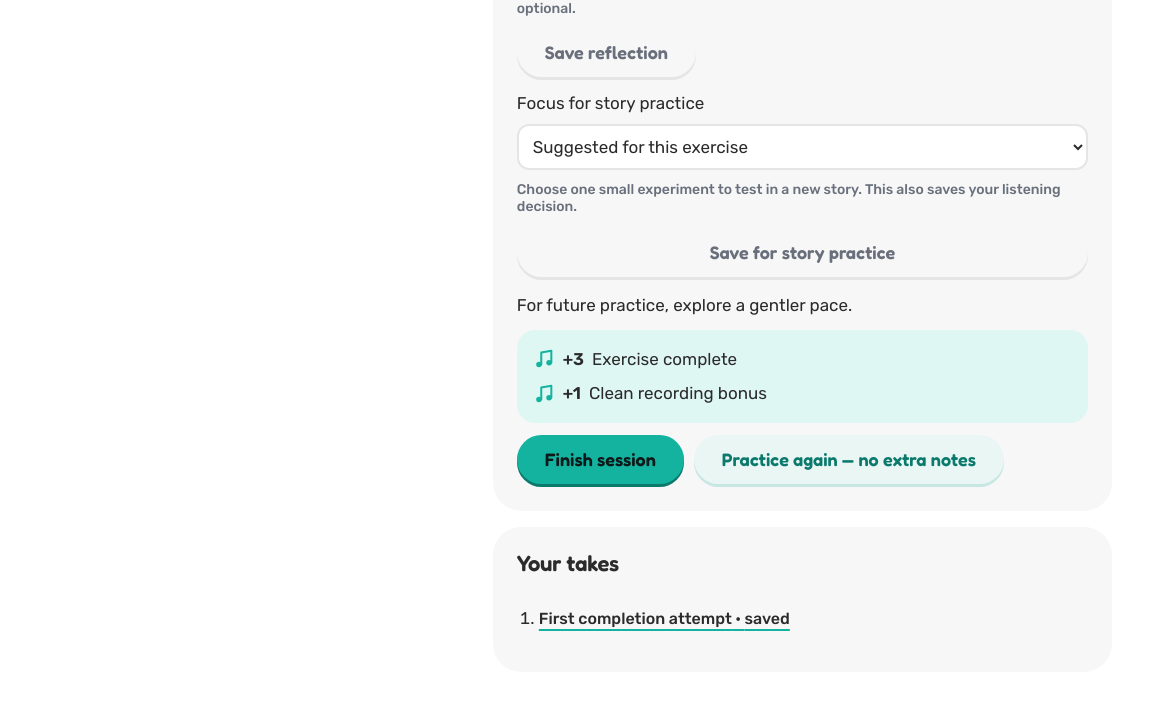
Test: cancelled extra practice keeps the saved feedback without creating an attempt
(page scrolled)
Step 1. Click the button "Practice again — no extra notes" → click(849, 459), box left=694, top=435, right=1004, bottom=484
(page scrolled)
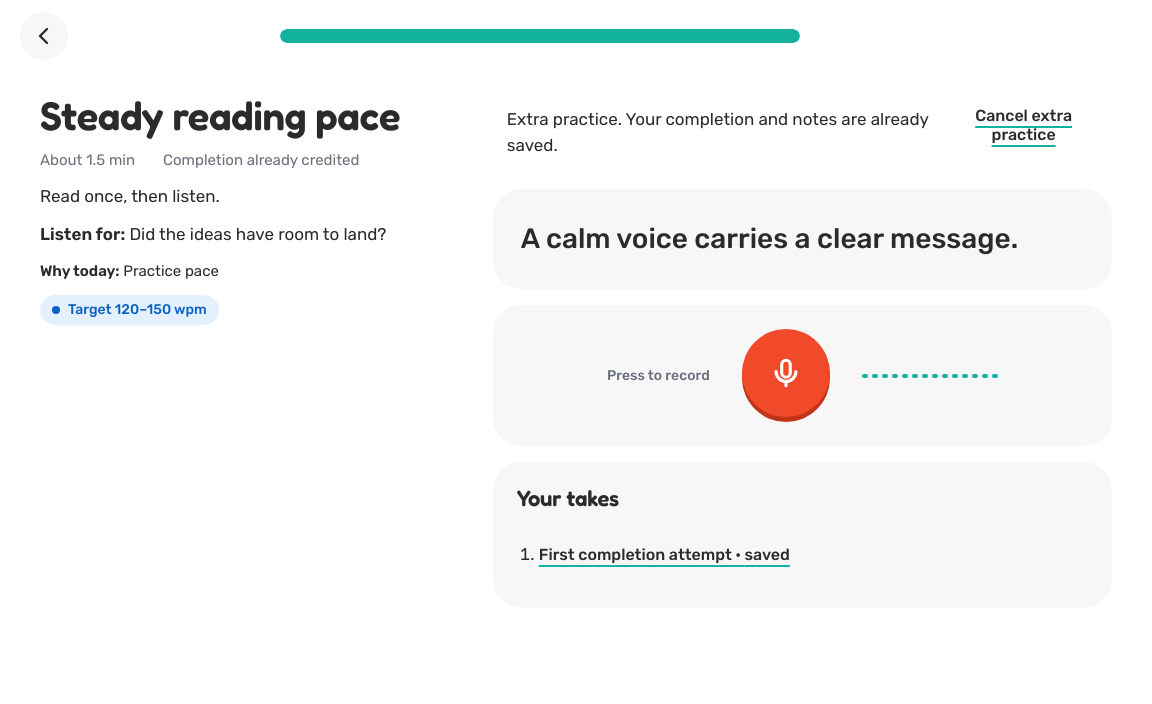
Step 2. Click the button "Cancel extra practice" → click(1024, 125), box left=949, top=106, right=1098, bottom=144
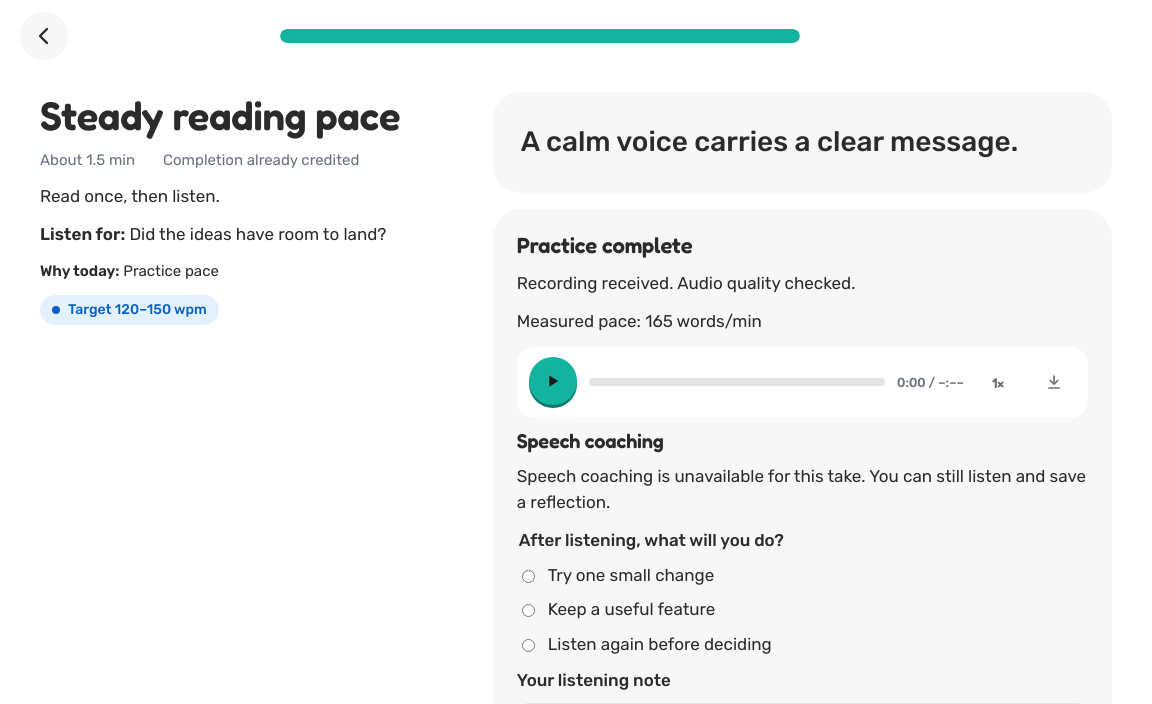
Check: the heading "Practice complete" is shown, box left=517, top=232, right=692, bottom=258
